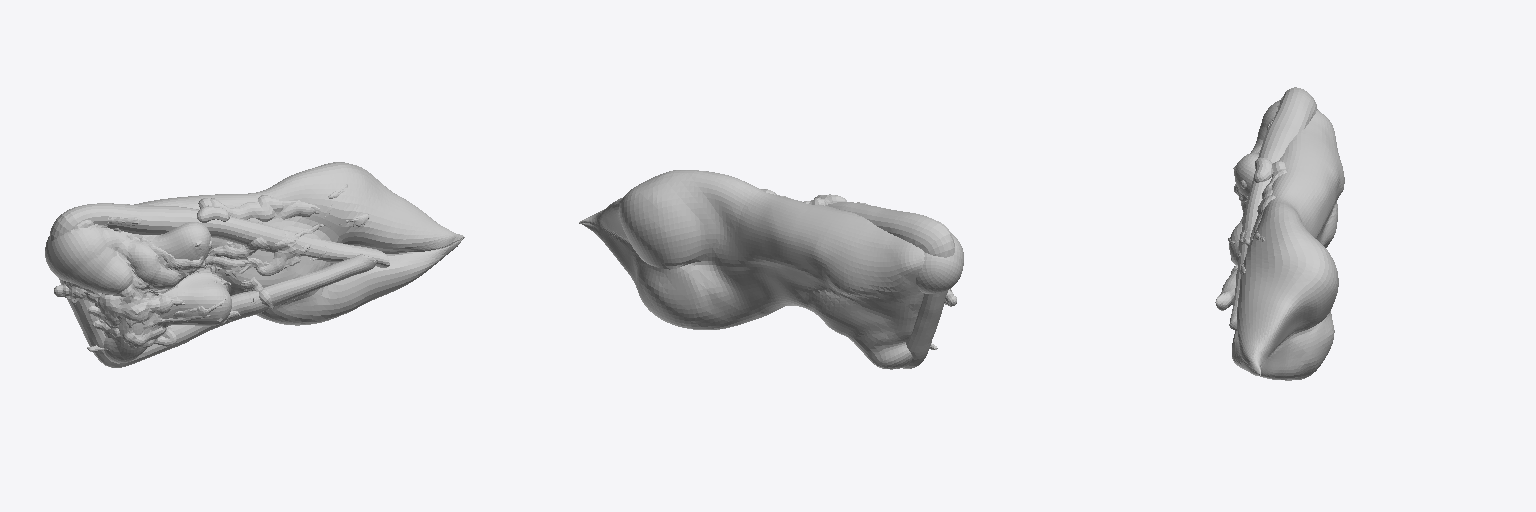
File: foamfigure2.OBJ
The picture shows the model from 3 angles: view 1: azimuth 30°, elevation 25°; view 2: azimuth 150°, elevation 25°; view 3: azimuth 270°, elevation 25°; orthographic projection.
Visible parts, largest first — view 1: ZBrush_defualt_group, Group4, Group1, Group43; view 2: ZBrush_defualt_group, Group1, Group4; view 3: ZBrush_defualt_group, Group1, Group43, Group4.
Boxes of the visible parts, x1=… form: ZBrush_defualt_group: x1=95, y1=162, x2=464, y2=362; Group4: x1=45, y1=217, x2=333, y2=347; Group1: x1=50, y1=203, x2=389, y2=367; Group43: x1=197, y1=195, x2=319, y2=222; ZBrush_defualt_group: x1=579, y1=170, x2=924, y2=369; Group1: x1=828, y1=202, x2=954, y2=368; Group4: x1=916, y1=233, x2=963, y2=306; ZBrush_defualt_group: x1=1229, y1=110, x2=1344, y2=380; Group1: x1=1215, y1=87, x2=1317, y2=330; Group43: x1=1253, y1=158, x2=1286, y2=235; Group4: x1=1228, y1=97, x2=1282, y2=260.
Size of the model in its own units: 9.06 by 3.62 by 2.55.